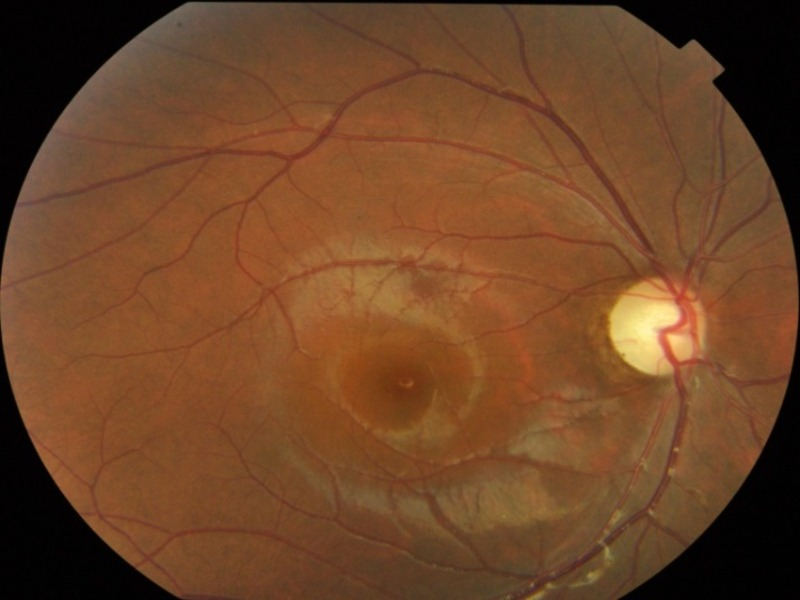Optic Cup: (636, 304, 677, 344)
Optic Disc: (608, 274, 709, 374)
